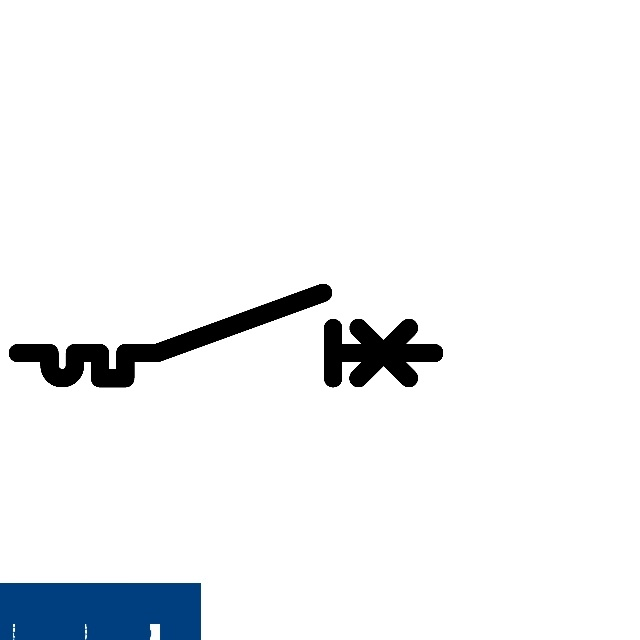interruptor_termomagnetico: (7, 282, 445, 389)
